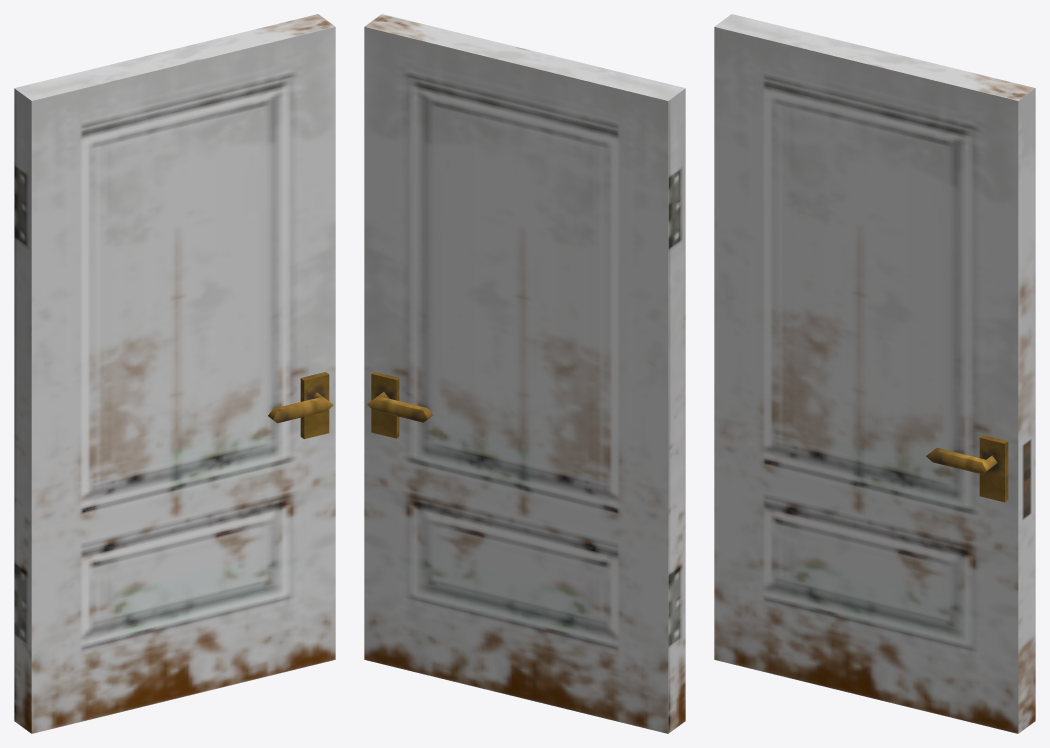
File: door_004.obj
3 views of the same model, side by side, from view 1: azimuth 30°, elevation 25°; view 2: azimuth 150°, elevation 25°; view 3: azimuth 330°, elevation 25° (orthographic).
Visible parts, largest first — view 1: Door05, DoorHandle_Handle; view 2: Door05, DoorHandle_Handle.001; view 3: Door05, DoorHandle_Handle.
Part boxes in pixels (<box>): Door05: <box>14,14,335,733</box>; DoorHandle_Handle: <box>268,372,333,439</box>; Door05: <box>364,14,685,733</box>; DoorHandle_Handle.001: <box>367,372,432,438</box>; Door05: <box>714,14,1035,733</box>; DoorHandle_Handle: <box>926,435,1008,502</box>.
Size of the model in its own units: 1 by 1.99 by 0.265.
Materials: 2 (2 with a texture image).
